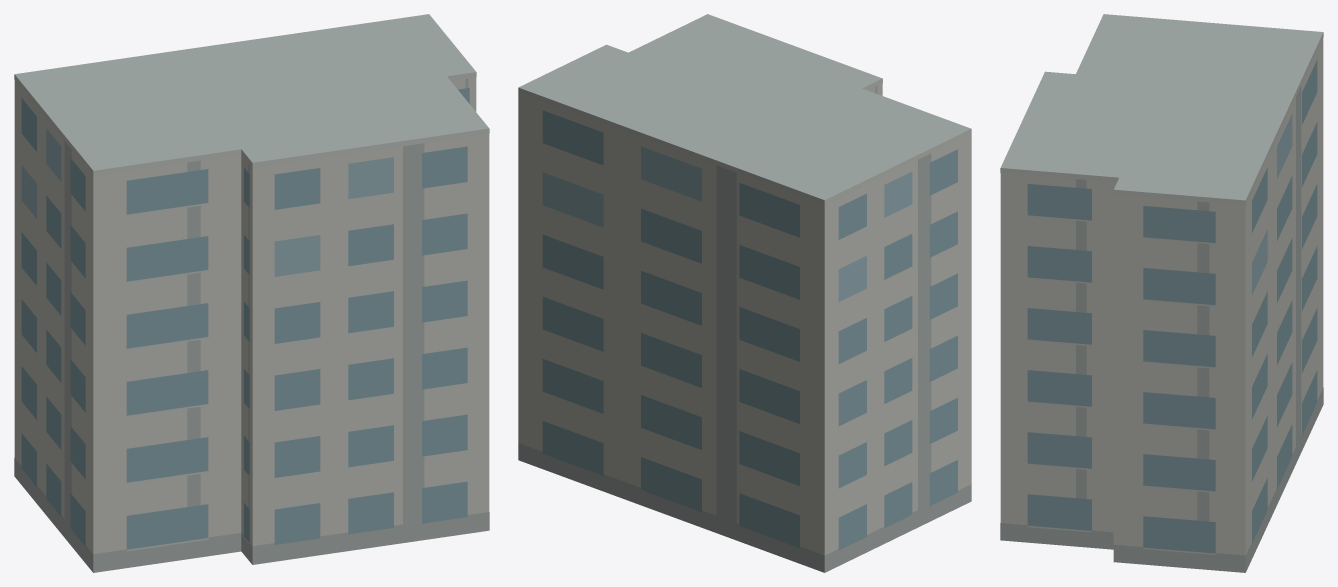
The model's file is survey-upis-32796264.glb.
3 views of the same model, side by side, from view 1: azimuth 30°, elevation 25°; view 2: azimuth 150°, elevation 25°; view 3: azimuth 270°, elevation 25° (orthographic). The views are drawn at different scales.
Parts seen in each view (by area): view 1: survey-upis-32796264.tmp; view 2: survey-upis-32796264.tmp; view 3: survey-upis-32796264.tmp.
Boxes of the visible parts, <box> form: survey-upis-32796264.tmp: <box>14,14,489,572</box>; survey-upis-32796264.tmp: <box>518,14,971,572</box>; survey-upis-32796264.tmp: <box>1000,14,1323,572</box>.
Size of the model in its own units: 19.76 by 18.4 by 14.47.
